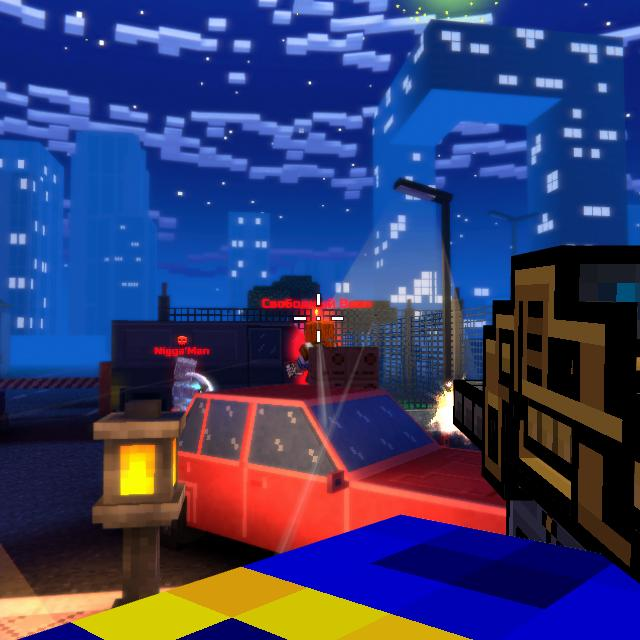Enemy: (297, 324, 336, 388), (299, 321, 317, 385)
